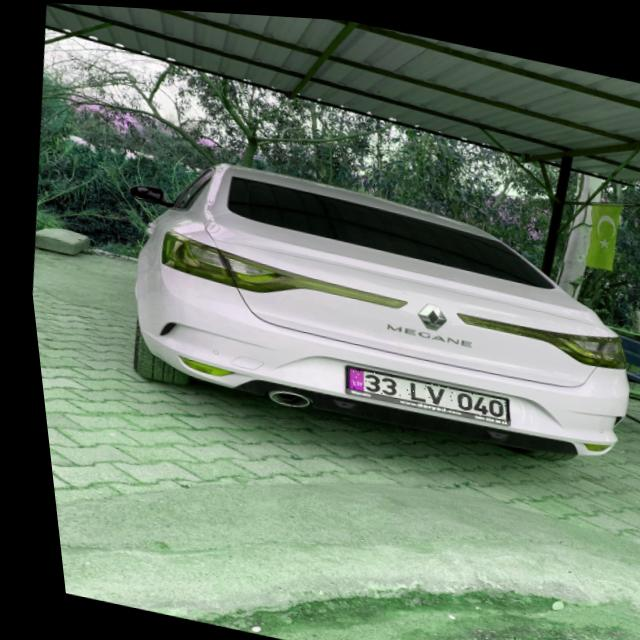license_plate: (335, 361, 503, 417)
